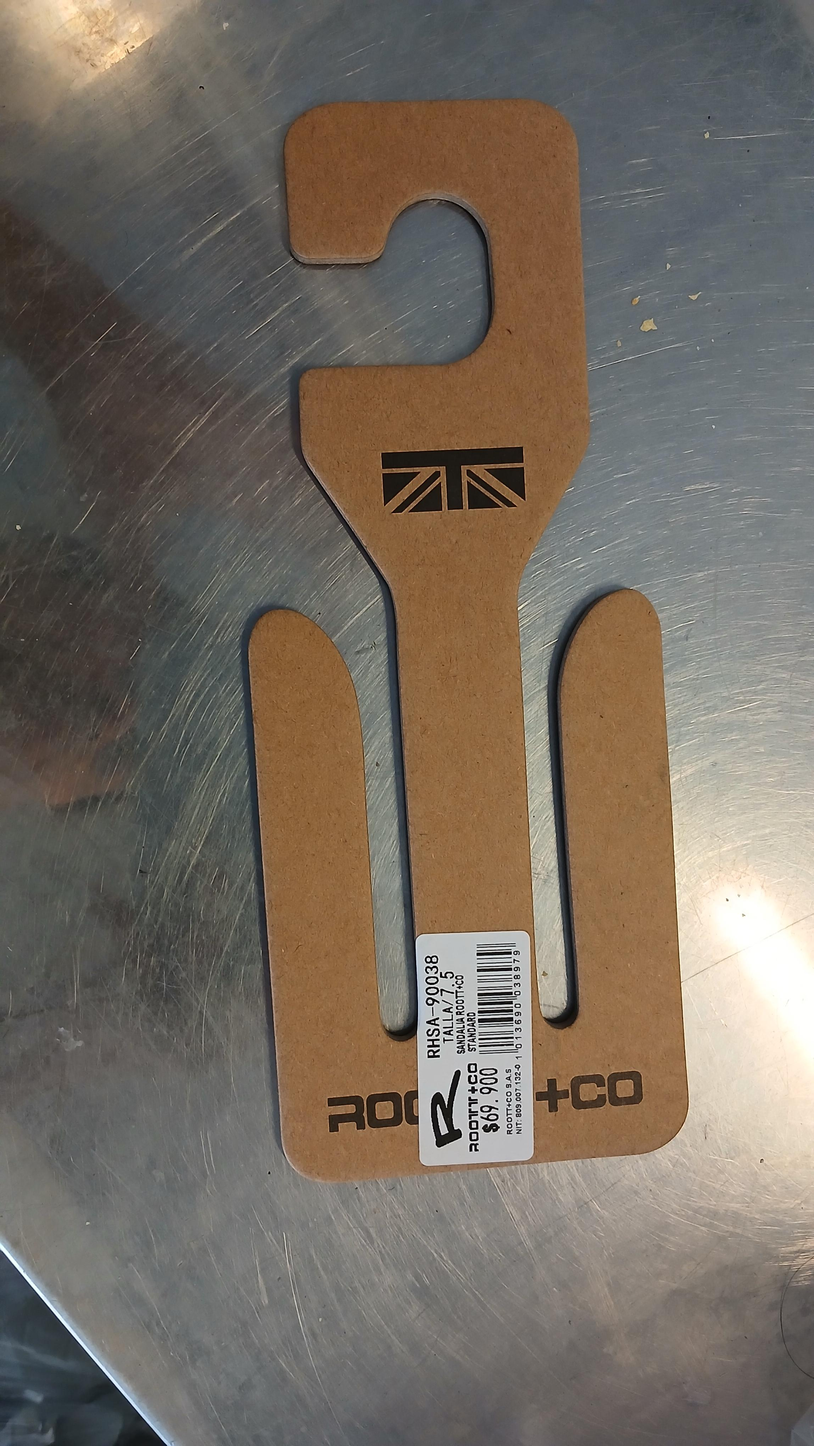Carton: (242, 103, 686, 1176)
